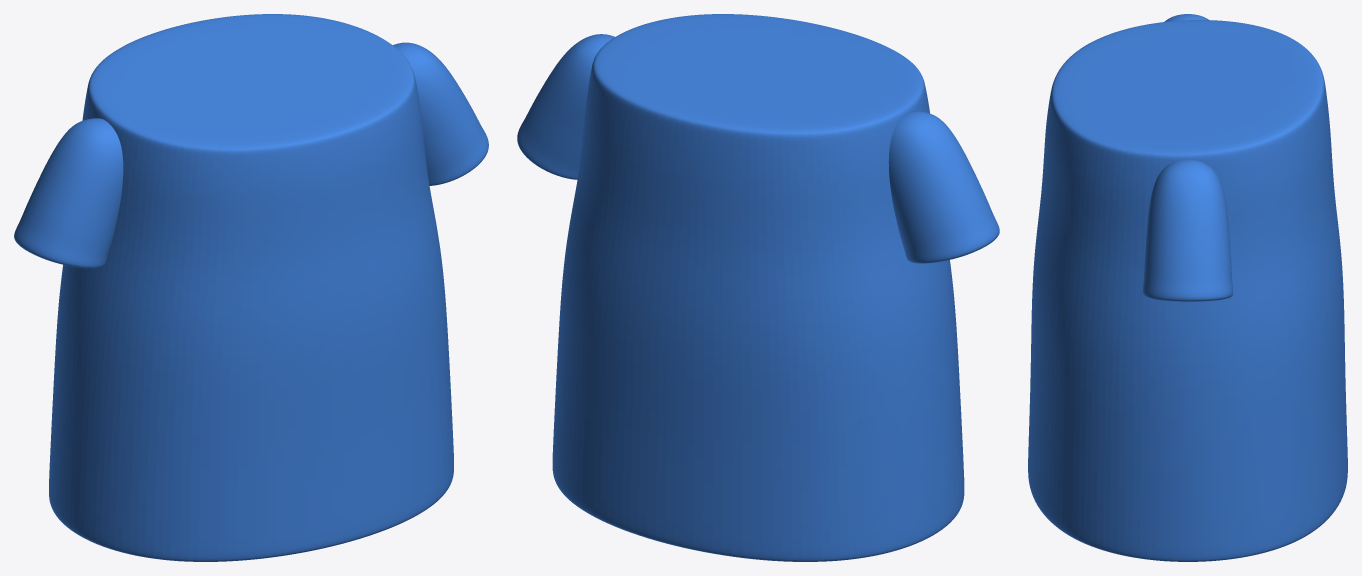
The model's file is CAMISETA_4_H.glb.
3 renders of one model, left to right at view 1: azimuth 30°, elevation 25°; view 2: azimuth 150°, elevation 25°; view 3: azimuth 270°, elevation 25°, orthographic. The views are drawn at different scales.
Parts seen in each view (by area): view 1: Cube.088, Cube.100; view 2: Cube.088, Cube.100; view 3: Cube.088, Cube.100.
Part boxes in pixels (box(x1,y1,x2,y2)): Cube.088: box(49, 14, 453, 561); Cube.100: box(14, 42, 488, 268); Cube.088: box(552, 14, 964, 561); Cube.100: box(517, 34, 999, 263); Cube.088: box(1028, 20, 1347, 561); Cube.100: box(1143, 14, 1233, 301).
Bounding box in the file's own units: 2.7 × 2.31 × 1.68.
